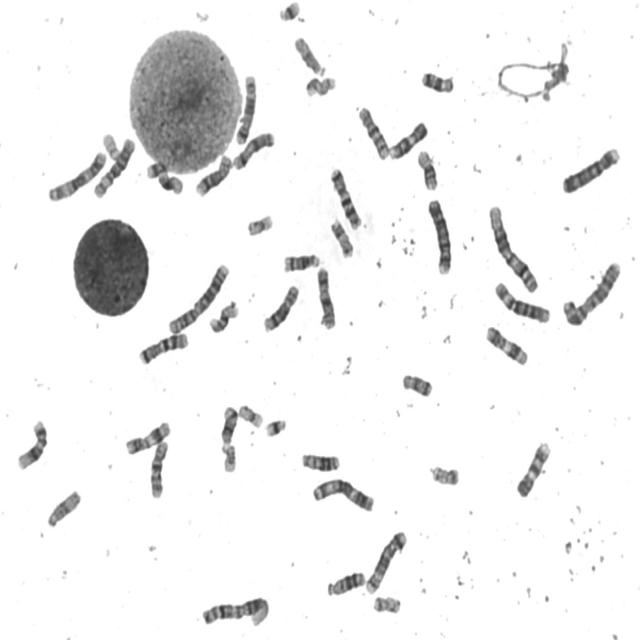A1: (485, 201, 540, 295), (199, 592, 270, 629)
A2: (165, 259, 231, 336), (559, 256, 623, 328)
A3: (45, 147, 108, 204), (309, 474, 375, 514)
B4: (559, 143, 622, 195), (424, 195, 453, 276)
B5: (362, 526, 408, 596), (232, 70, 258, 146)
C10: (356, 103, 390, 161), (146, 436, 170, 501)
C11: (482, 322, 530, 367), (122, 417, 172, 456)
C12: (14, 416, 49, 470), (144, 157, 184, 197)
C6: (91, 134, 136, 200), (491, 278, 552, 326)
C7: (327, 163, 363, 231), (136, 328, 190, 366)
C8: (261, 281, 300, 334), (192, 151, 233, 198)
C9: (514, 436, 552, 499), (386, 118, 429, 161)
D13: (324, 568, 366, 598), (298, 448, 342, 472)
D14: (212, 403, 242, 456), (280, 249, 322, 274)
D15: (43, 486, 82, 529), (292, 32, 327, 79)
E16: (207, 297, 240, 334), (414, 146, 440, 192)
E17: (328, 215, 355, 259), (303, 72, 338, 99)
E18: (399, 369, 434, 399), (418, 68, 456, 95)
F19: (244, 210, 275, 238), (236, 400, 264, 429)
F20: (426, 460, 461, 488), (370, 592, 402, 615)
G21: (262, 414, 288, 438), (276, 0, 303, 23)
G22: (99, 128, 122, 162), (219, 446, 239, 474)
X: (230, 128, 276, 172), (314, 263, 337, 331)
